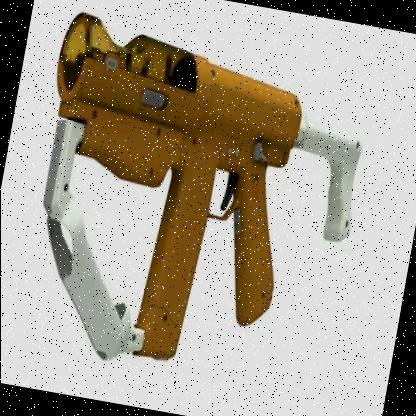rifle: (4, 0, 398, 381)
